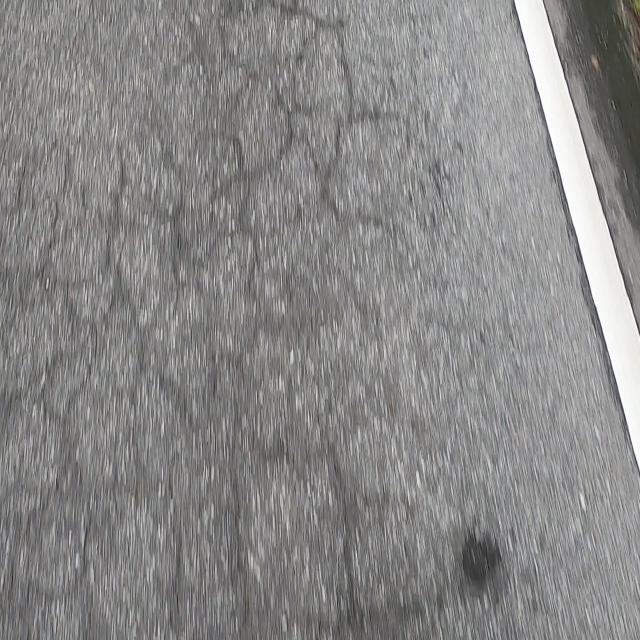Retak-Buaya: (2, 0, 454, 640)
